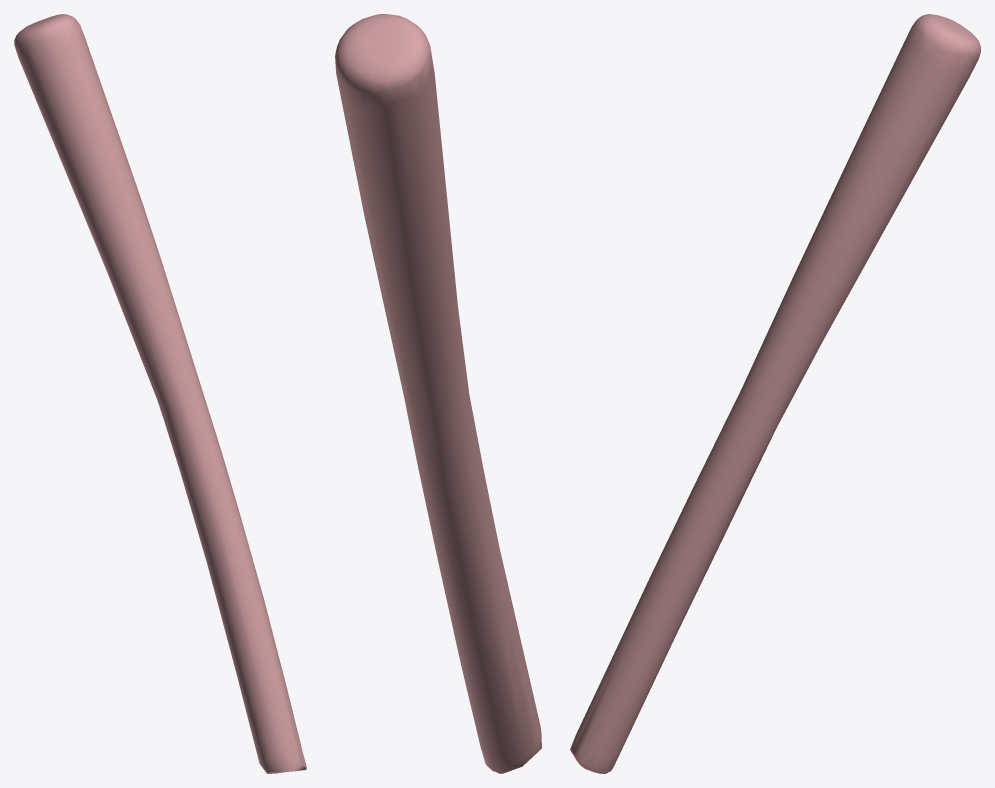
The model's file is fma68594_fj6561.glb.
3 renders of one model, left to right at view 1: azimuth 30°, elevation 25°; view 2: azimuth 150°, elevation 25°; view 3: azimuth 270°, elevation 25°, orthographic. The views are drawn at different scales.
Visible parts, largest first — view 1: FMA68594_FJ6561; view 2: FMA68594_FJ6561; view 3: FMA68594_FJ6561.
Part boxes in pixels (bbox=[...]): FMA68594_FJ6561: bbox=[14, 14, 306, 773]; FMA68594_FJ6561: bbox=[335, 14, 541, 773]; FMA68594_FJ6561: bbox=[570, 14, 980, 773].
Size of the model in its own units: 0.00555 by 0.0292 by 0.0153.
